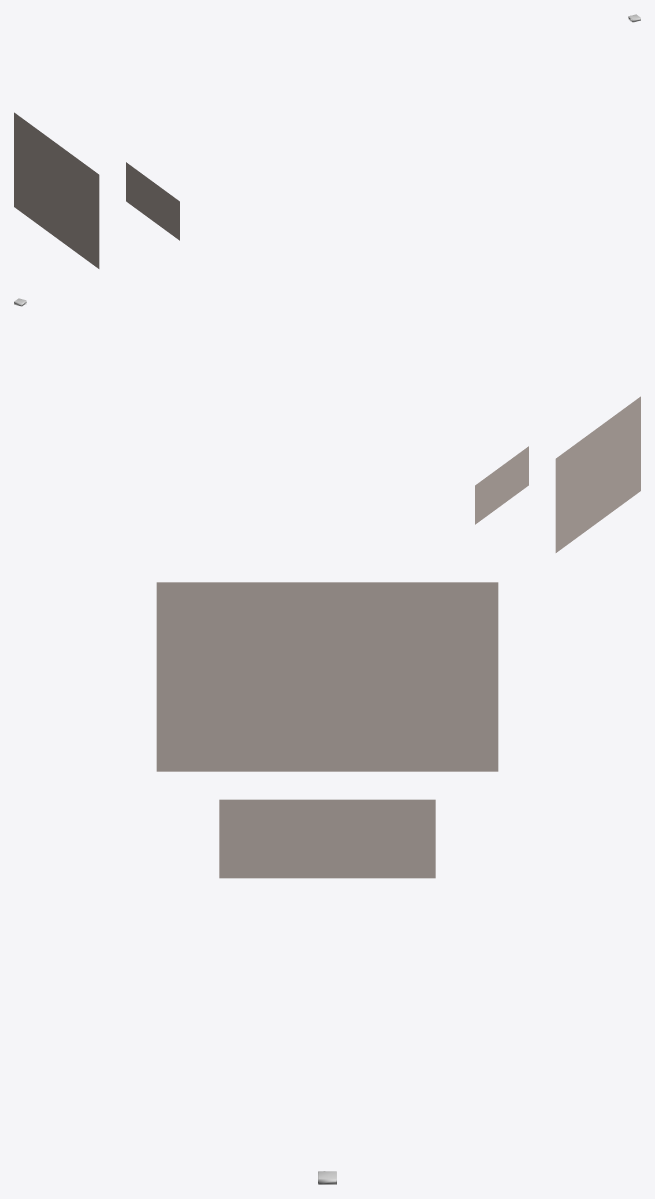
The picture shows the model from 3 angles, top to bottom: view 1: azimuth 30°, elevation 25°; view 2: azimuth 150°, elevation 25°; view 3: azimuth 270°, elevation 25°; orthographic projection. The views are drawn at different scales.
Visible parts, largest first — view 1: proj_scene_2_drap, proj_scene_1_avant; view 2: proj_scene_2_drap, proj_scene_1_avant; view 3: proj_scene_2_drap, proj_scene_1_avant.
Boxes of the visible parts, <box> form: proj_scene_2_drap: <box>14,112,99,268</box>; proj_scene_1_avant: <box>126,162,179,240</box>; proj_scene_2_drap: <box>555,396,640,552</box>; proj_scene_1_avant: <box>475,446,528,524</box>; proj_scene_2_drap: <box>156,582,498,771</box>; proj_scene_1_avant: <box>219,799,435,878</box>.
Size of the model in its own units: 4.26 by 0.708 by 1.08.
